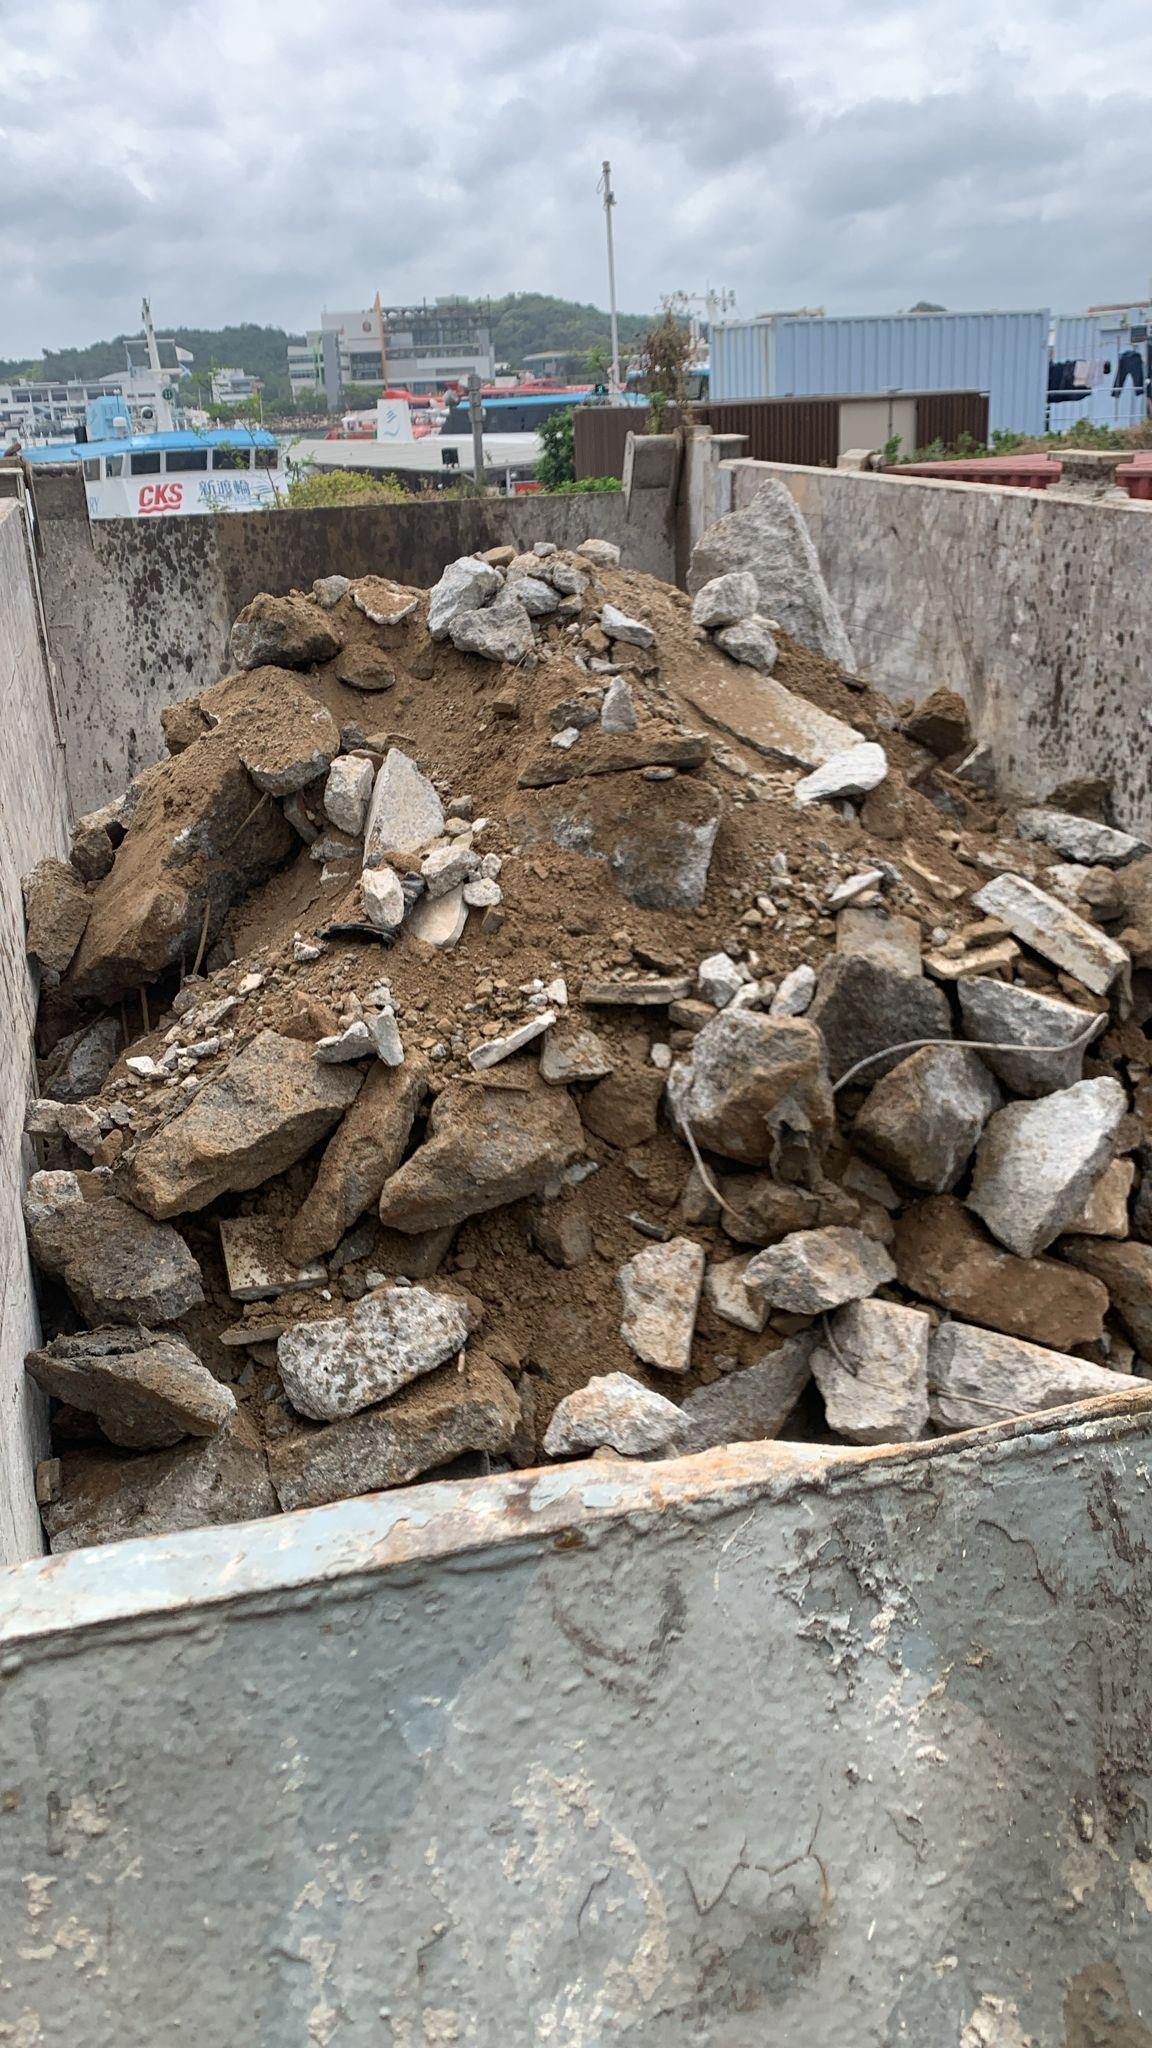dry: (34, 494, 1124, 1436)
